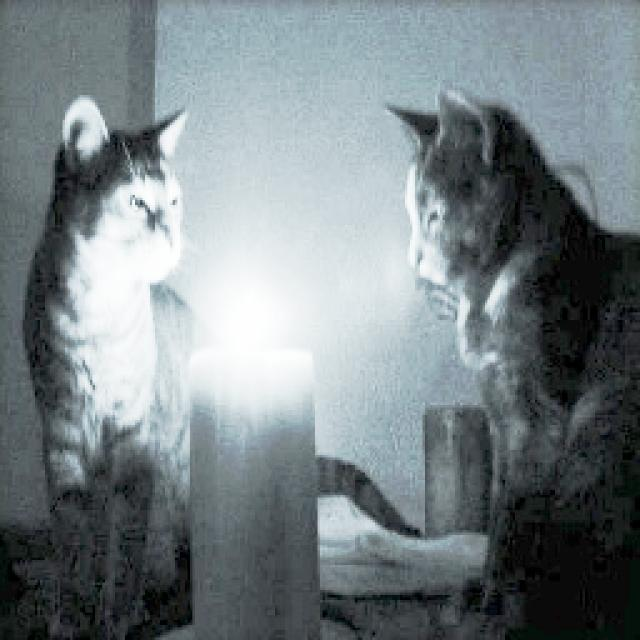cat: (362, 70, 640, 578), (12, 90, 254, 578)
